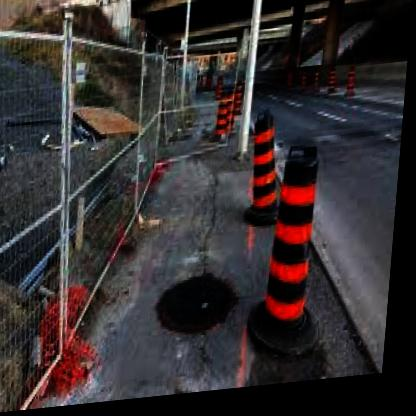obstacle: (272, 151, 324, 350), (243, 109, 289, 226)
